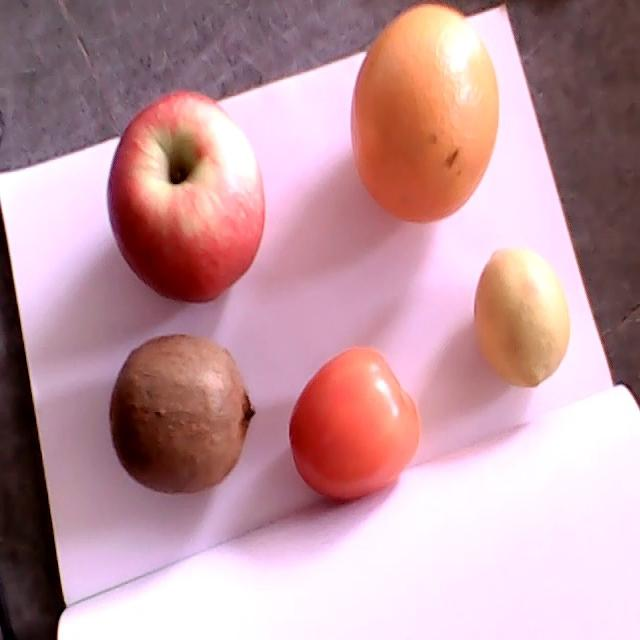apple: (107, 93, 265, 302)
kiwi: (109, 334, 256, 494)
lemon: (474, 248, 570, 387)
orange: (350, 1, 500, 222)
tomato: (290, 347, 420, 498)
